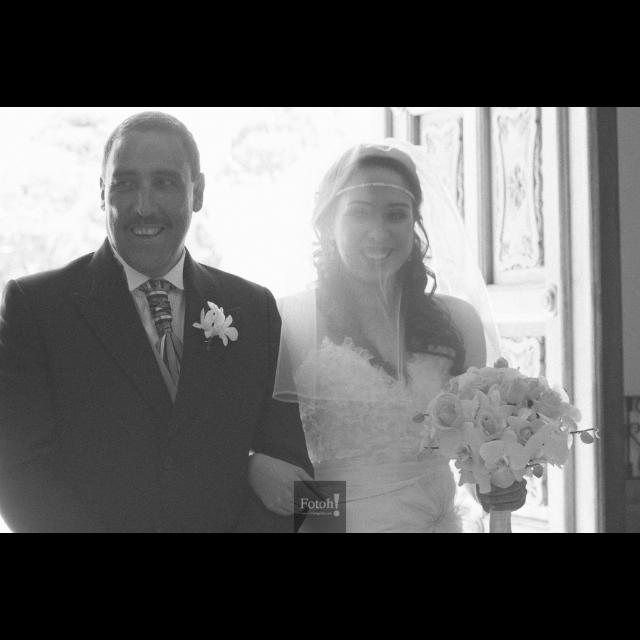Flower: (418, 366, 582, 494), (192, 309, 212, 337), (206, 303, 224, 333), (217, 320, 236, 344)
